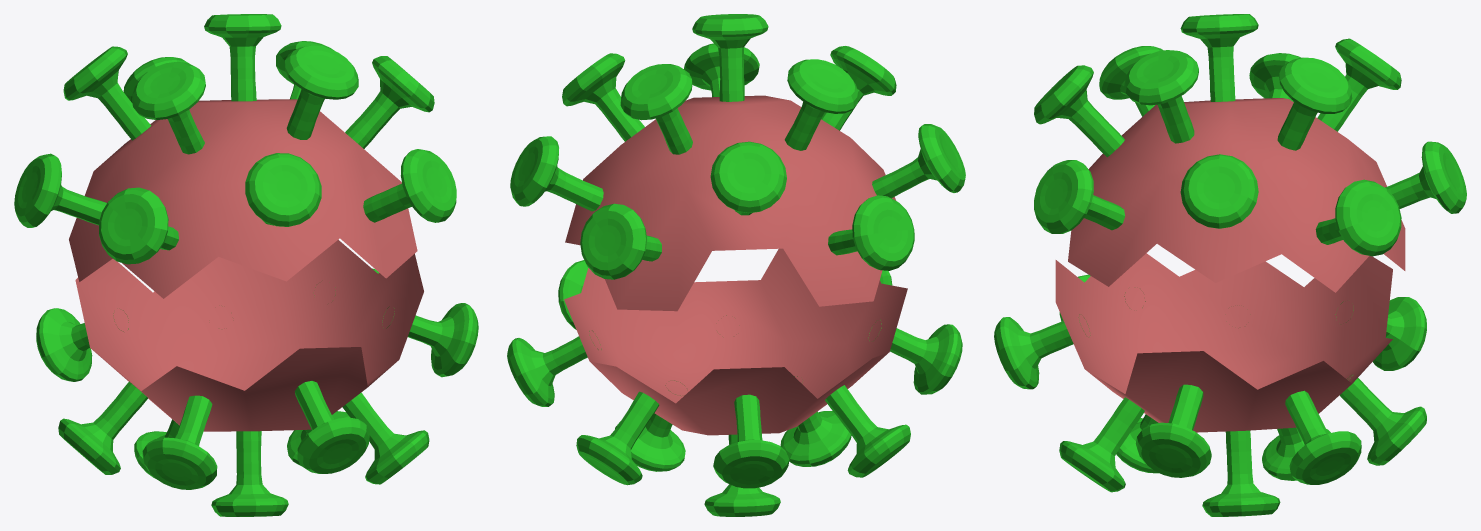
File: virus.fbx
3 views of the same model, side by side, from view 1: azimuth 30°, elevation 25°; view 2: azimuth 150°, elevation 25°; view 3: azimuth 270°, elevation 25° (orthographic). The views are drawn at different scales.
Visible parts, largest first — view 1: sphere, MASH1_ReproMesh; view 2: sphere, MASH1_ReproMesh; view 3: sphere, MASH1_ReproMesh.
Boxes of the visible parts, left/top/right/bottom form: sphere: left=69, top=99, right=423, bottom=431; MASH1_ReproMesh: left=14, top=14, right=478, bottom=516; sphere: left=564, top=95, right=907, bottom=435; MASH1_ReproMesh: left=507, top=14, right=965, bottom=516; sphere: left=1055, top=98, right=1405, bottom=432; MASH1_ReproMesh: left=994, top=14, right=1466, bottom=516.
Size of the model in its own units: 9.11 by 9.85 by 9.33.
